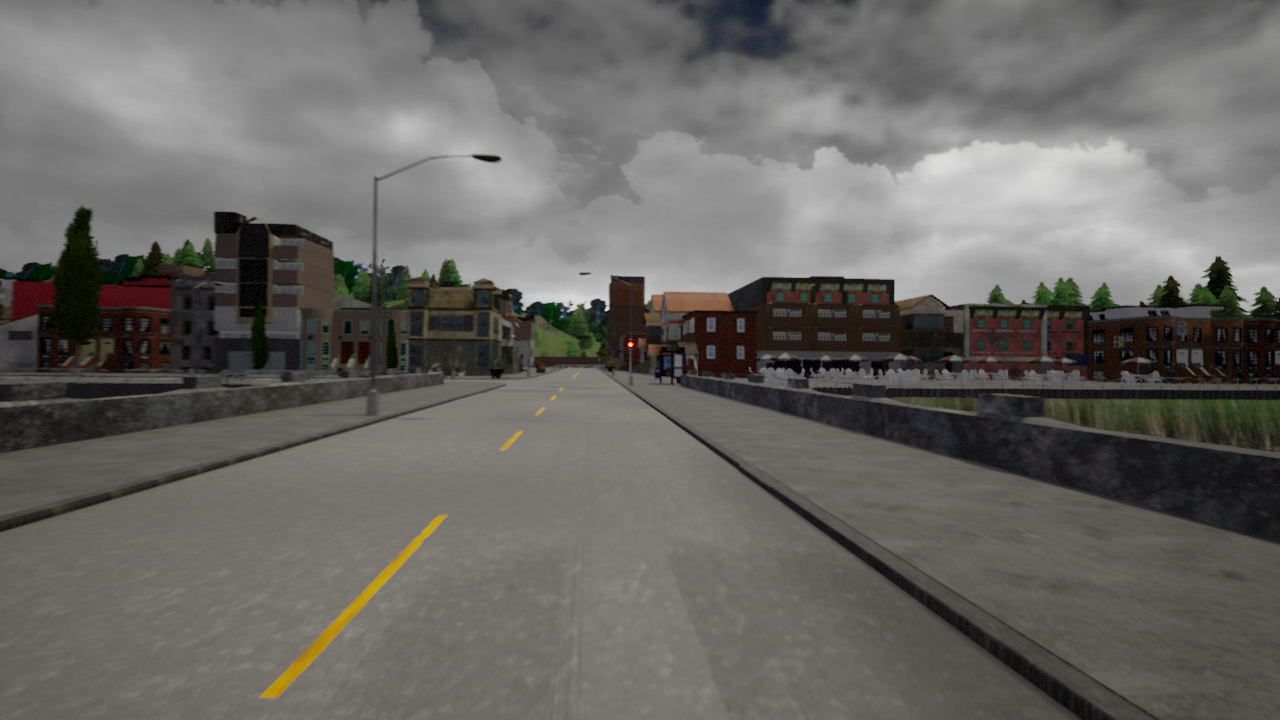red: (627, 341, 634, 356)
